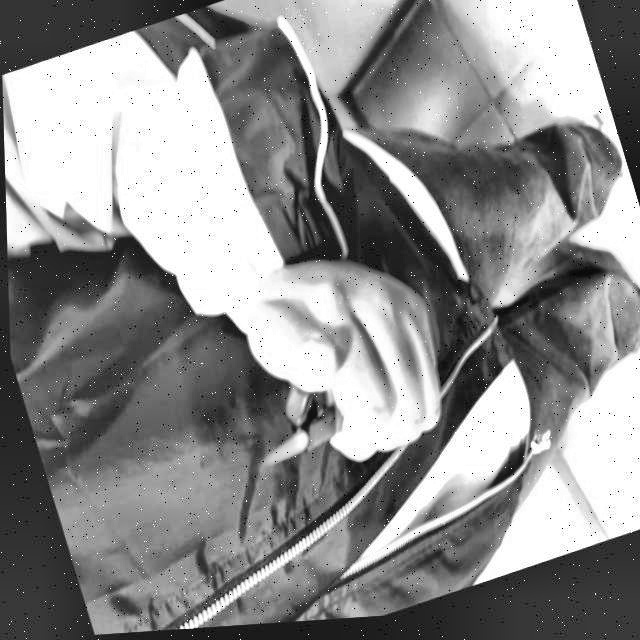Fire: (247, 429, 307, 473)
